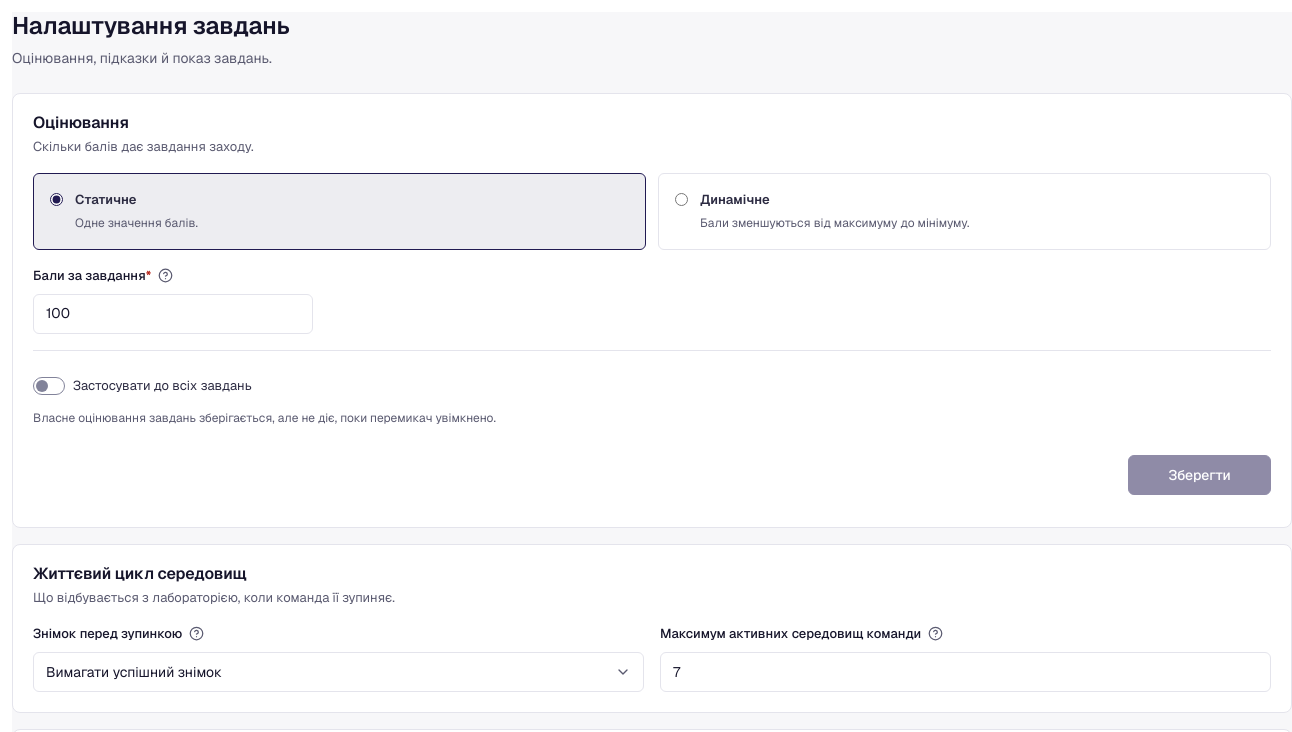
Test: lifecycle policy optimistic save queue › offers no retention setting and rolls back a refused policy save with a toast
The width and height of the screenshot is (1292, 732).
Replace the text in the number field labelled "Максимум активних середовищ команди" with "3": (966, 672) [660,652,1271,692]
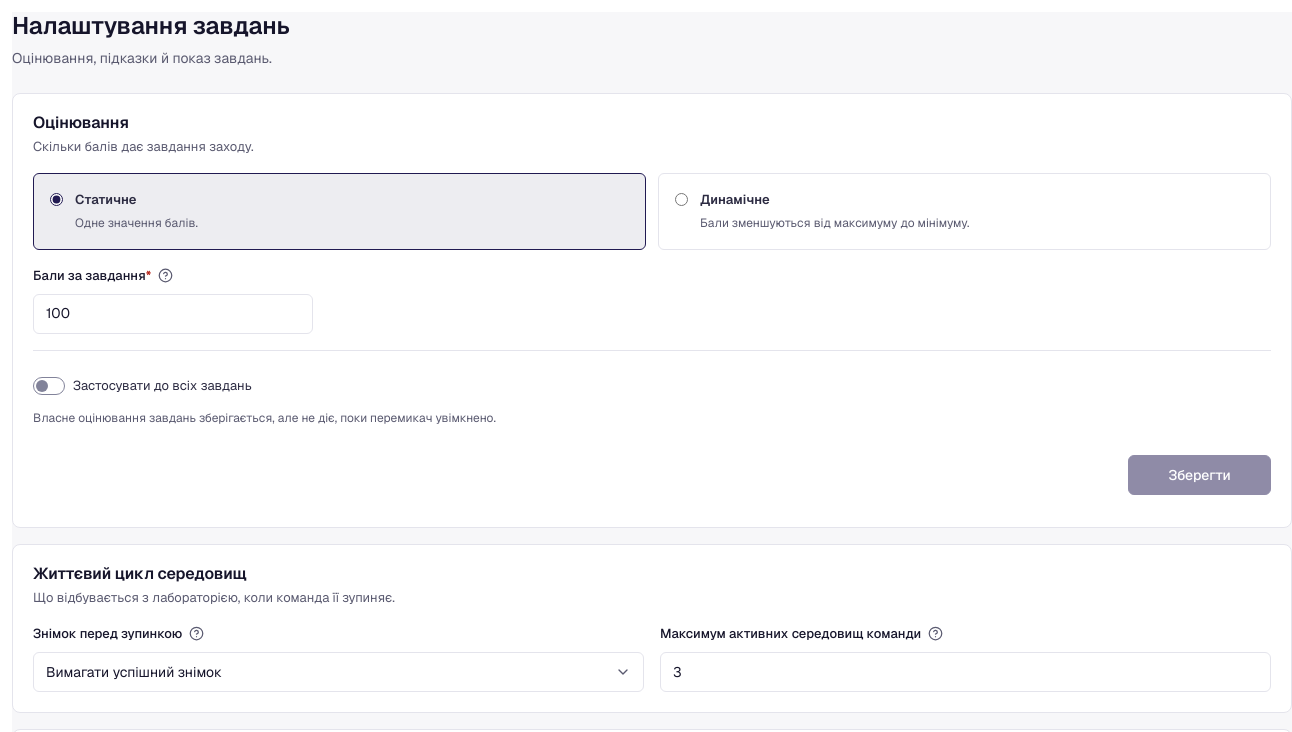
Press Enter in the number field labelled "Максимум активних середовищ команди", box [660,652,1271,692]
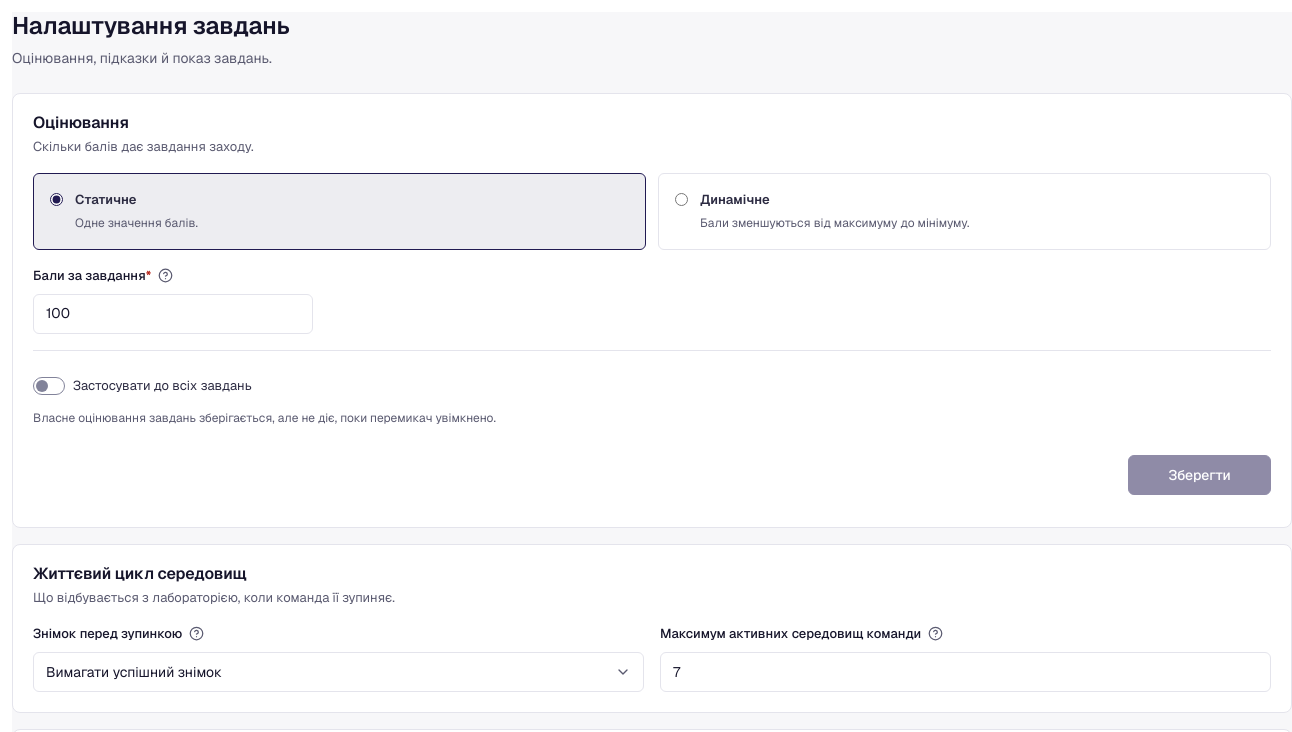
Expected: the number field labelled "Максимум активних середовищ команди" holds "7", [660,652,1271,692]
